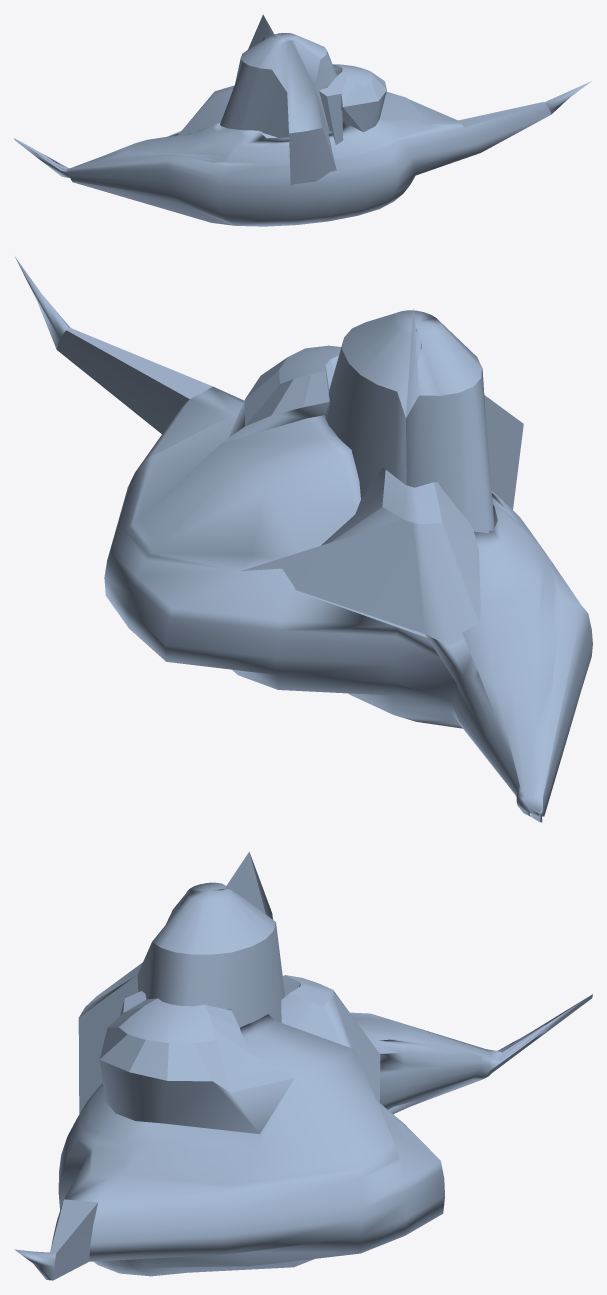
Rendered from CLOUD5.fbx.
3 views of the same model, one above another, from view 1: azimuth 30°, elevation 25°; view 2: azimuth 150°, elevation 25°; view 3: azimuth 270°, elevation 25° (orthographic). The views are drawn at different scales.
Parts seen in each view (by area): view 1: pSphere14; view 2: pSphere14; view 3: pSphere14.
Part boxes in pixels (box(x1,y1,x2,y2)): pSphere14: box(14, 14, 591, 226); pSphere14: box(15, 257, 592, 822); pSphere14: box(14, 851, 592, 1280).
Size of the model in its own units: 12.5 by 5.47 by 7.99.
